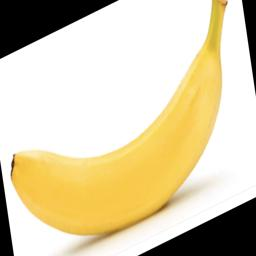Banana Fresh: (7, 59, 238, 247)
